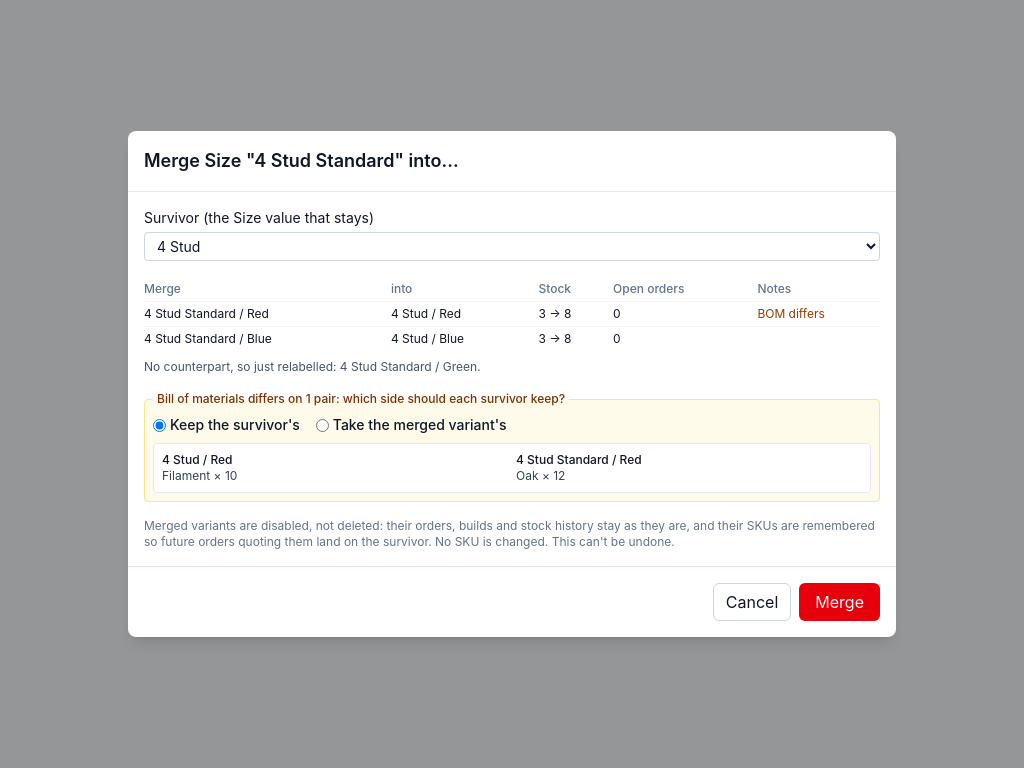
Test case: confirms live listings once for all pairs
Expected: the cell "4 Stud Standard / Red" is shown, [144,302,391,326]
Click the button "Merge": (840,602) [799,583,880,621]
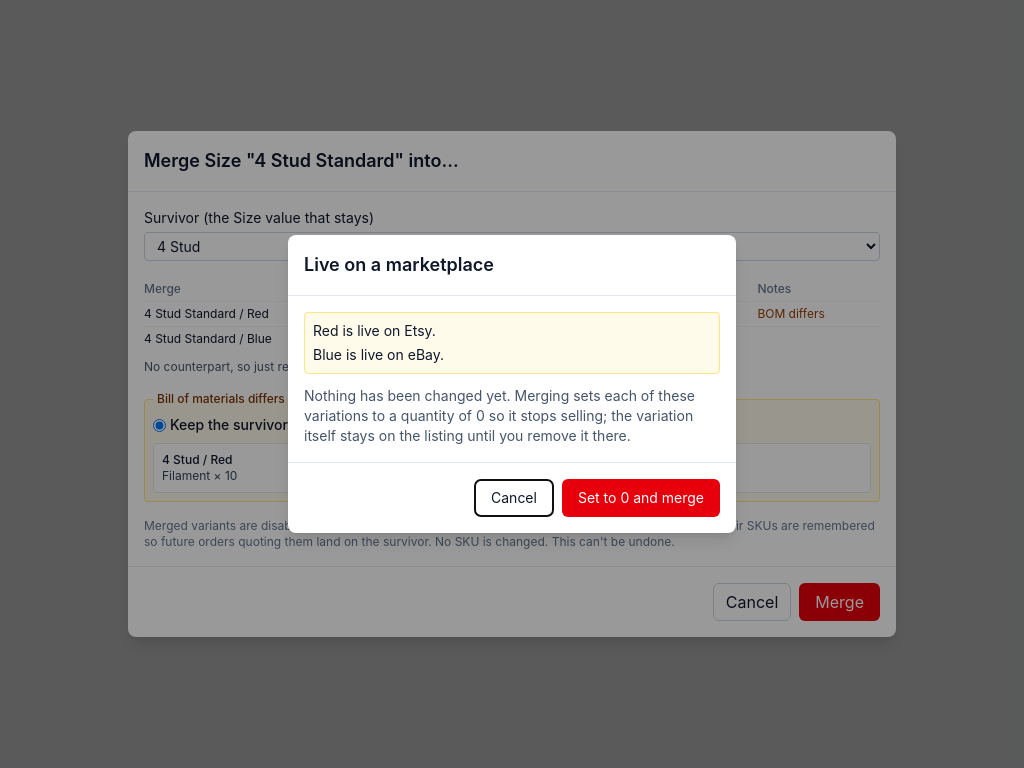
Expected: the list item "Red is live on Etsy." is shown, [313,322,436,339]
Expected: the list item "Blue is live on eBay." is shown, [313,346,444,363]
Click the button "Set to 0 and merge": (641,498) [562,479,720,517]
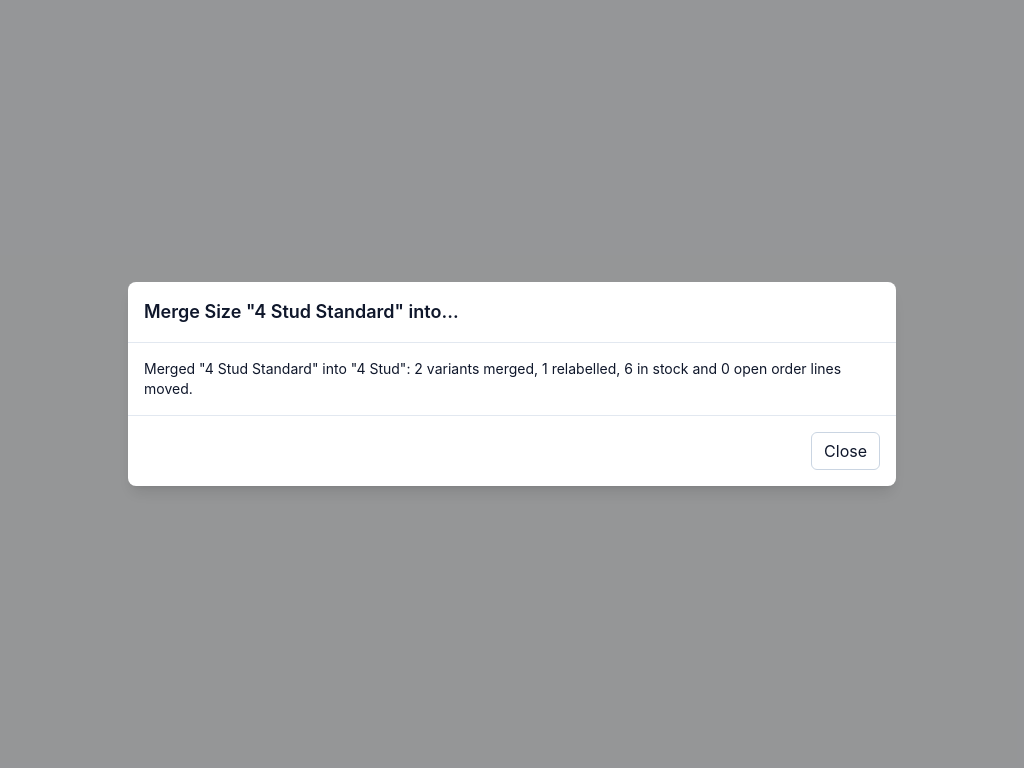
Expected: the text "2 variants merged" is shown, [144,359,880,399]
